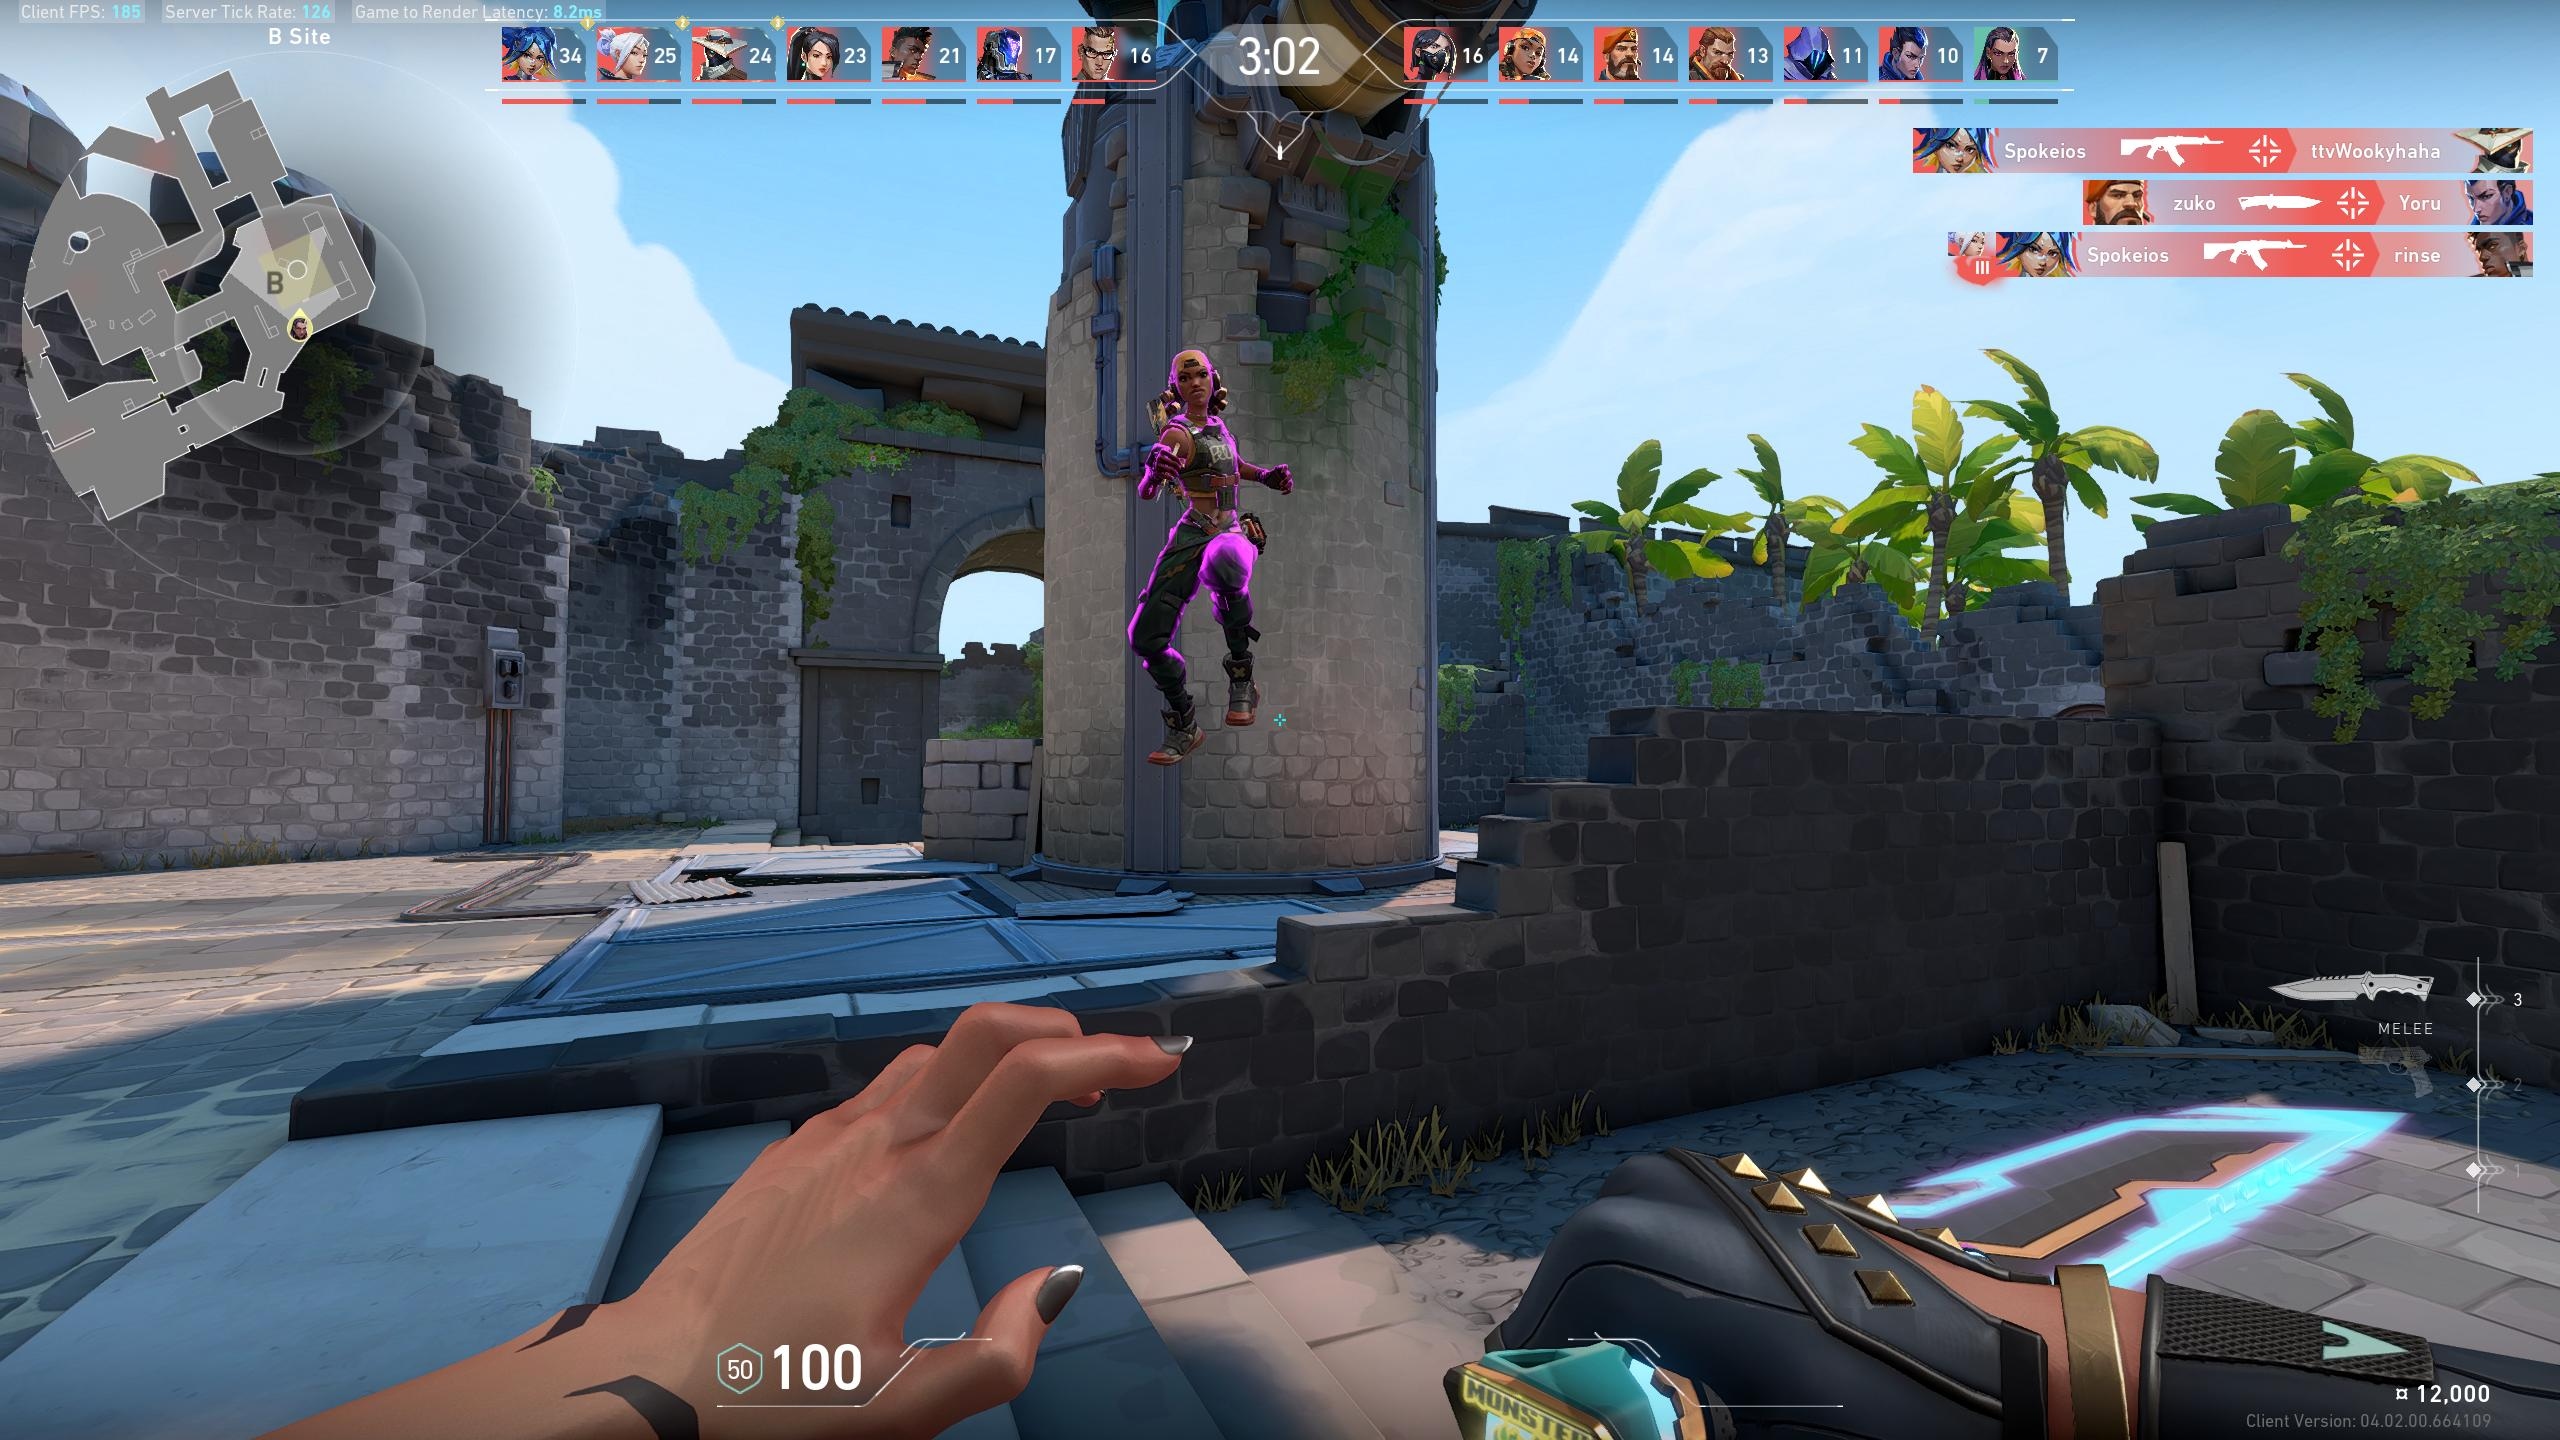enemyBody: (1182, 418, 1227, 522)
enemyHead: (1176, 352, 1211, 411)
